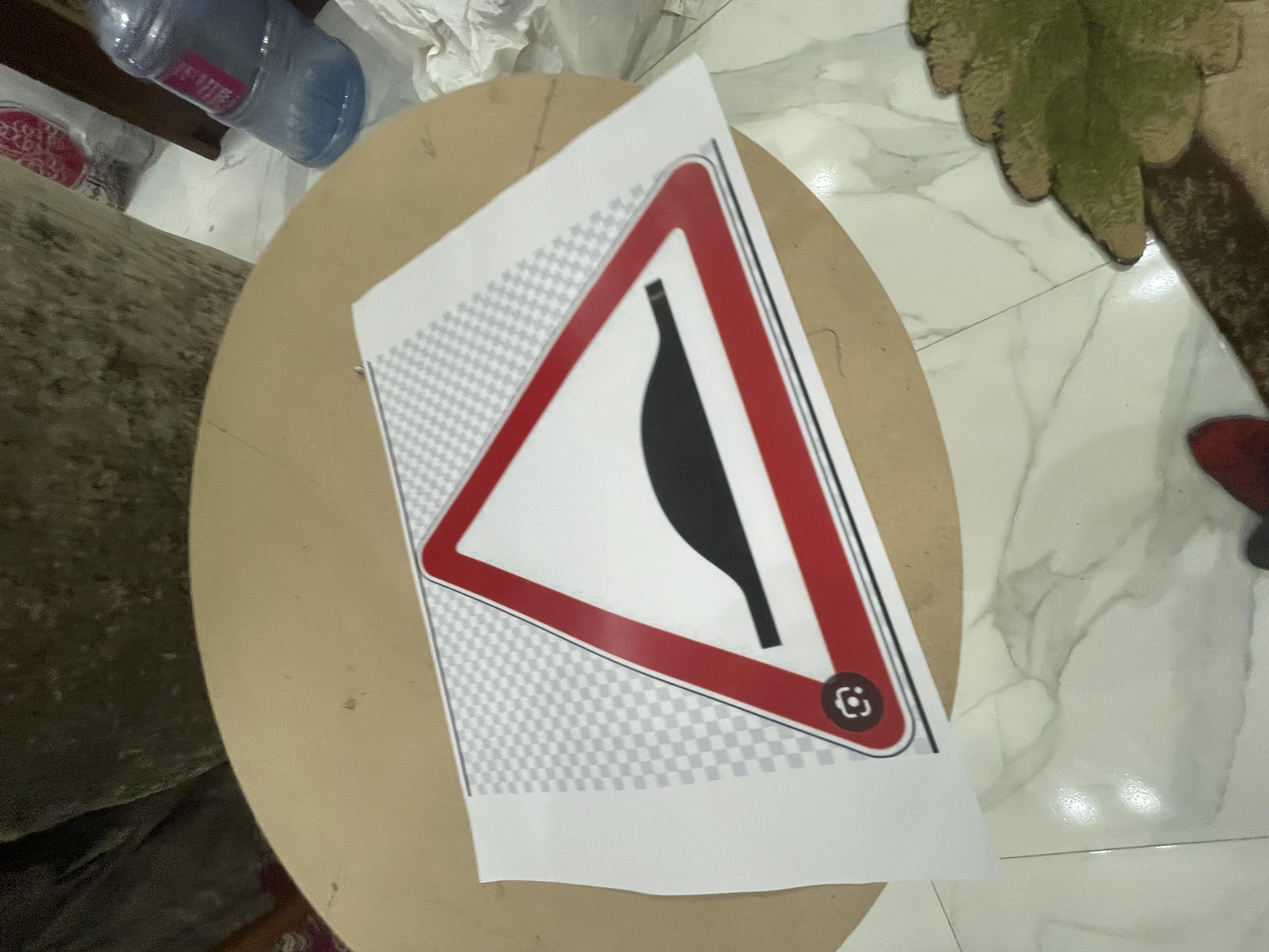Hump: (418, 153, 904, 767)
